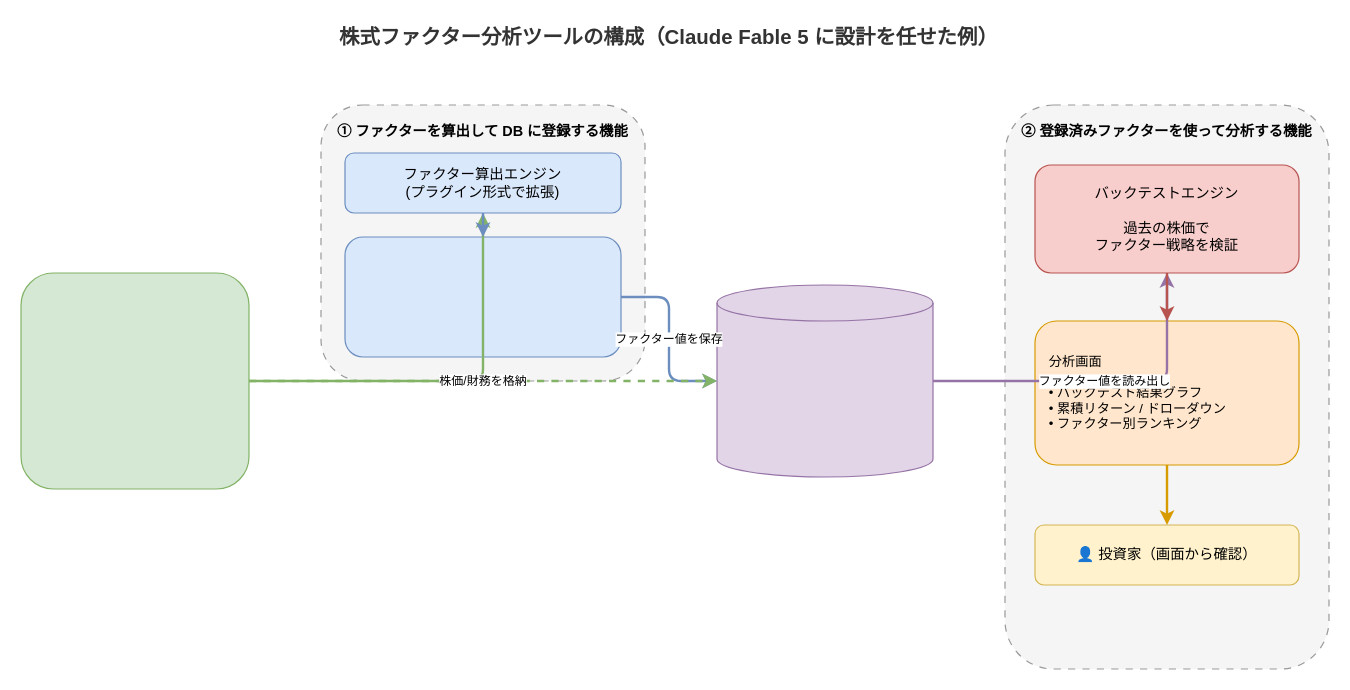
This 1350x690 diagram has some shape labels left out. The shapes that lost their labels are listed below. From the top down, each one's box as (x1, y1, x2, y2) in pixels, then its label:
(344, 236, 621, 357): ファクター定義 • バリュー(PER/PBR) • モメンタム(過去リターン) • クオリティ / サイズ / 低ボラ
(20, 272, 249, 489): J-Quants API (JPX 公式データ) • 株価 OHLC • 財務情報 /fins/summary • 配当 • 株式分割
(716, 284, 933, 477): データベース • 株価テーブル • 財務テーブル • ファクター値テーブル
